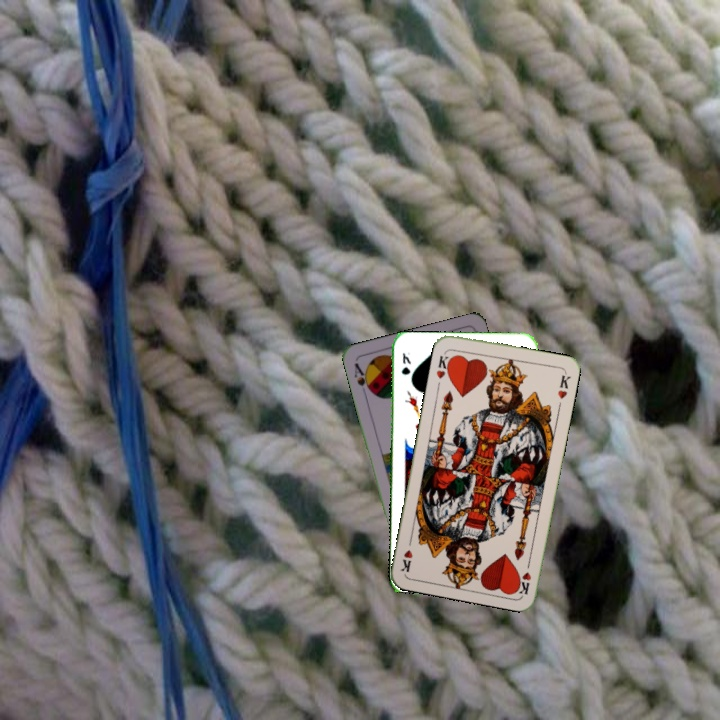GK: (398, 349, 413, 377)
HK: (513, 555, 534, 596), (432, 347, 455, 381)
SA: (350, 359, 375, 396)
